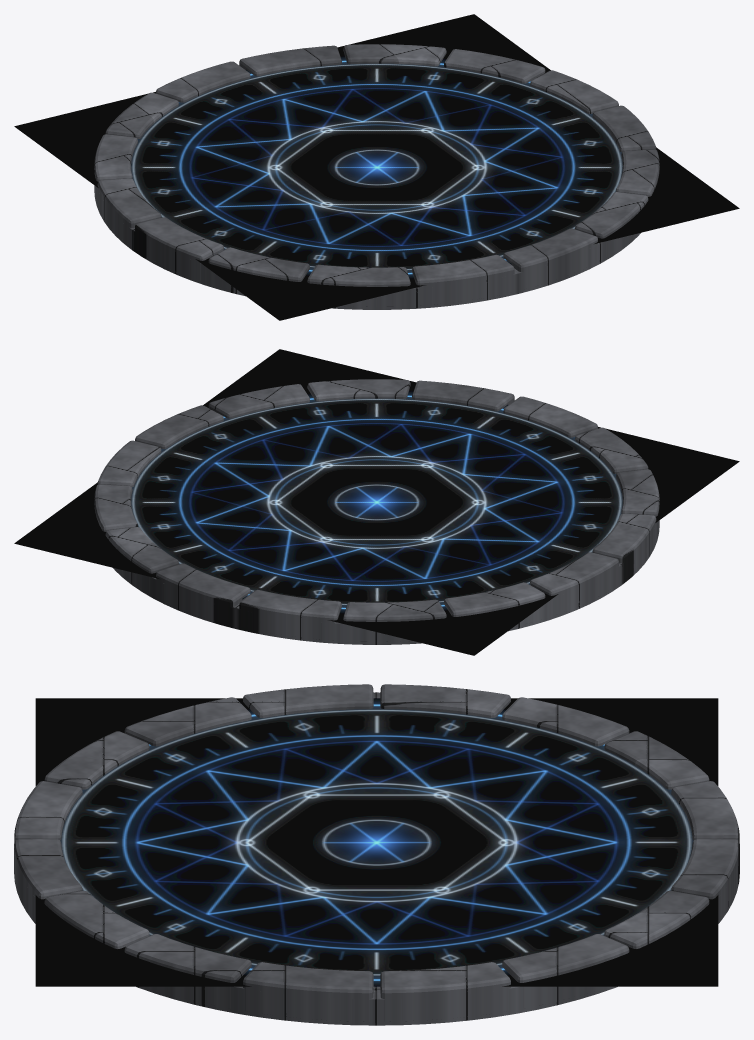
Rendered from enemy_portal.fbx.
3 renders of one model, top to bottom at view 1: azimuth 30°, elevation 25°; view 2: azimuth 150°, elevation 25°; view 3: azimuth 270°, elevation 25°, orthographic. The views are drawn at different scales.
Visible parts, largest first — view 1: 문양, 돌판; view 2: 문양, 돌판; view 3: 문양, 돌판.
Boxes of the visible parts, x1,y1,x2,y2 form: 문양: (14, 14, 739, 320); 돌판: (94, 44, 659, 309); 문양: (14, 349, 739, 655); 돌판: (94, 379, 659, 644); 문양: (35, 698, 718, 986); 돌판: (14, 684, 739, 1025).
Bounding box in the file's own units: 1 × 0.055 × 1.
